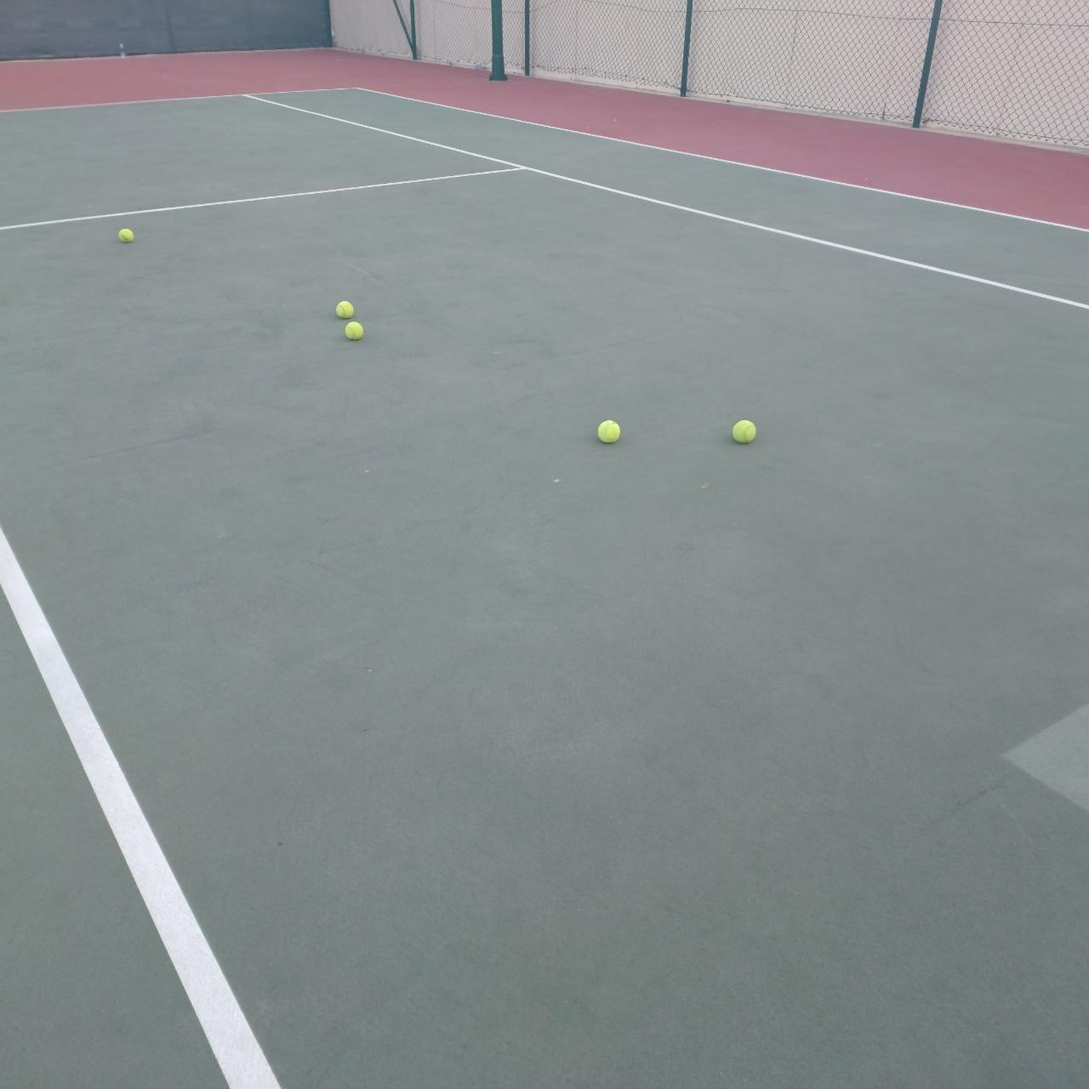tennis-ball: (730, 417, 756, 444), (596, 417, 620, 444), (343, 319, 364, 340), (334, 298, 354, 319), (117, 226, 134, 242)
